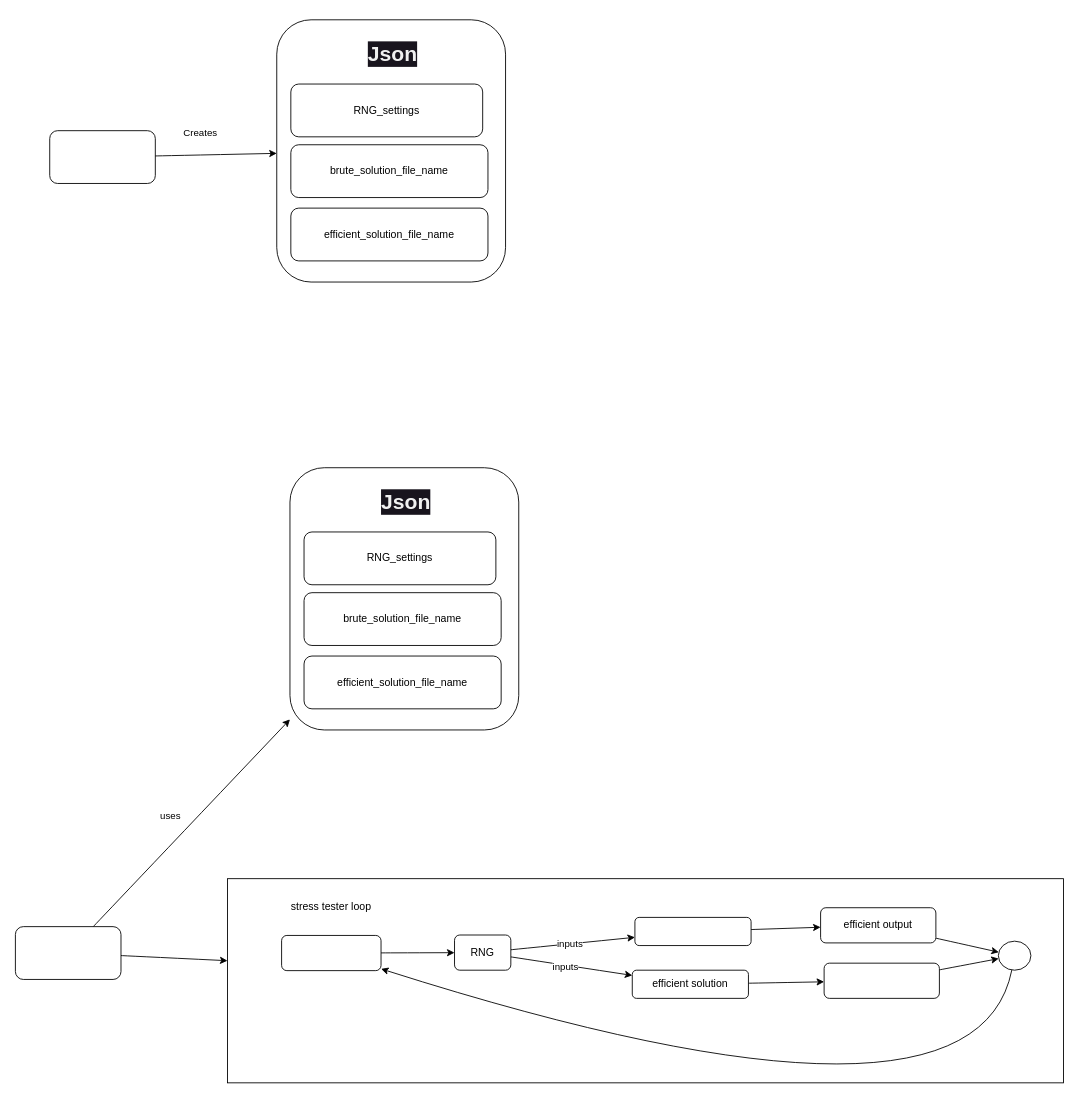
Some shapes in this 1079 by 1099 pixel diagram are drawn without their labels. The box of each missing label's shape, as (x1, y1, x2, y2) in pixels:
brute force solution: (634, 917, 751, 946)
brute output: (823, 962, 939, 998)
loops until outputs don't match: (281, 935, 381, 971)
stress_tester: (49, 130, 155, 183)
stress_tester start: (15, 926, 121, 979)
